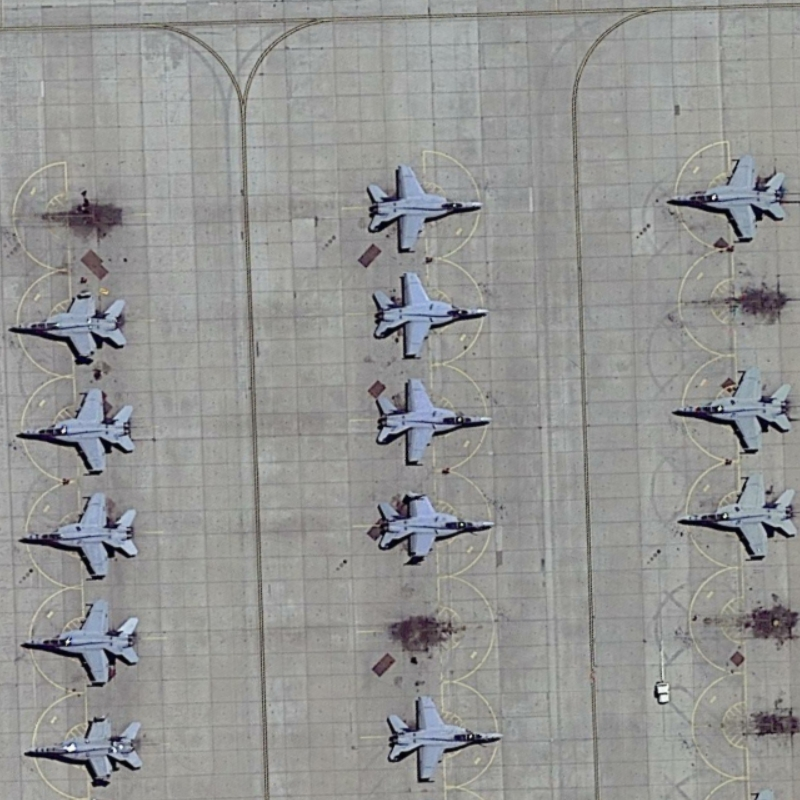A16: (359, 158, 487, 259), (670, 467, 800, 565), (362, 266, 492, 363), (657, 153, 791, 245), (11, 383, 140, 478), (666, 365, 797, 458), (368, 372, 494, 468), (15, 487, 143, 581), (381, 692, 507, 786), (18, 597, 142, 689), (376, 484, 496, 568), (6, 288, 132, 365), (19, 713, 150, 787)
